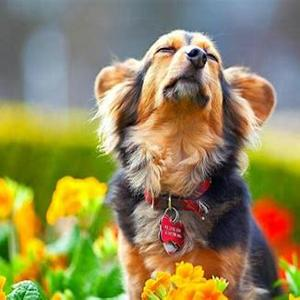dog: (98, 37, 269, 288)
